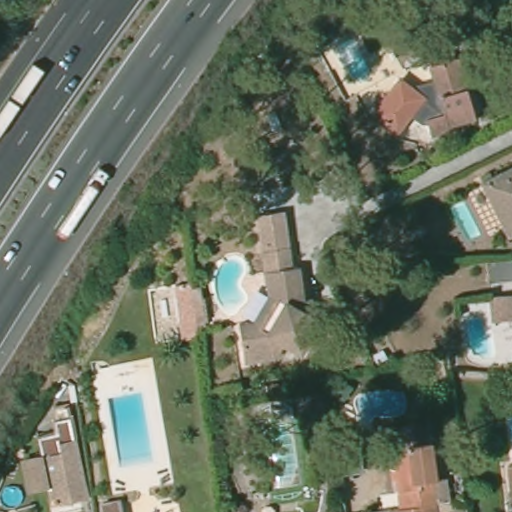pool: (108, 388, 162, 471), (258, 419, 303, 497), (211, 255, 252, 316), (454, 308, 498, 364), (352, 387, 411, 424), (330, 33, 370, 84), (448, 198, 488, 241), (2, 481, 29, 510)
